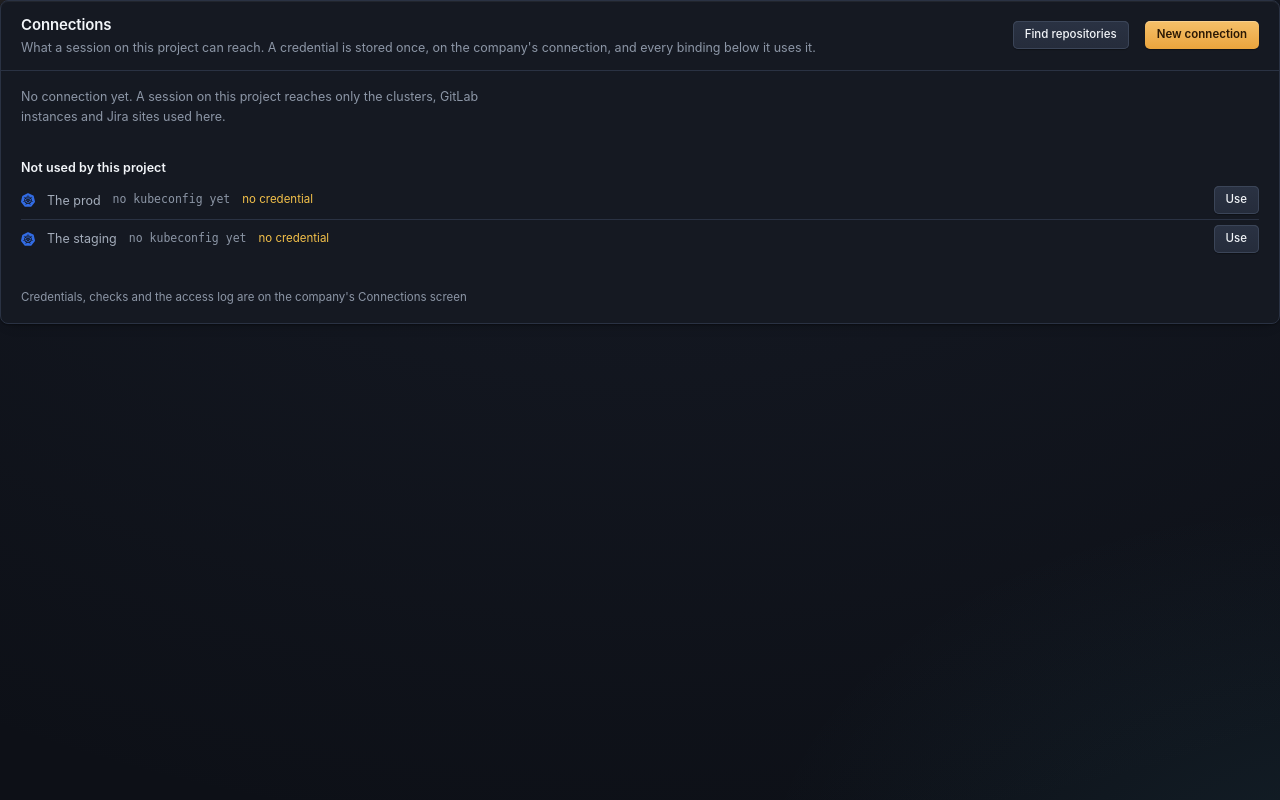
Test: ProjectConnectionsPage › finds the repositories under the folder and shows what each became
The width and height of the screenshot is (1280, 800).
Click the button with test id "discover-repositories": (1071, 35) x1=1013 y1=21 x2=1129 y2=49
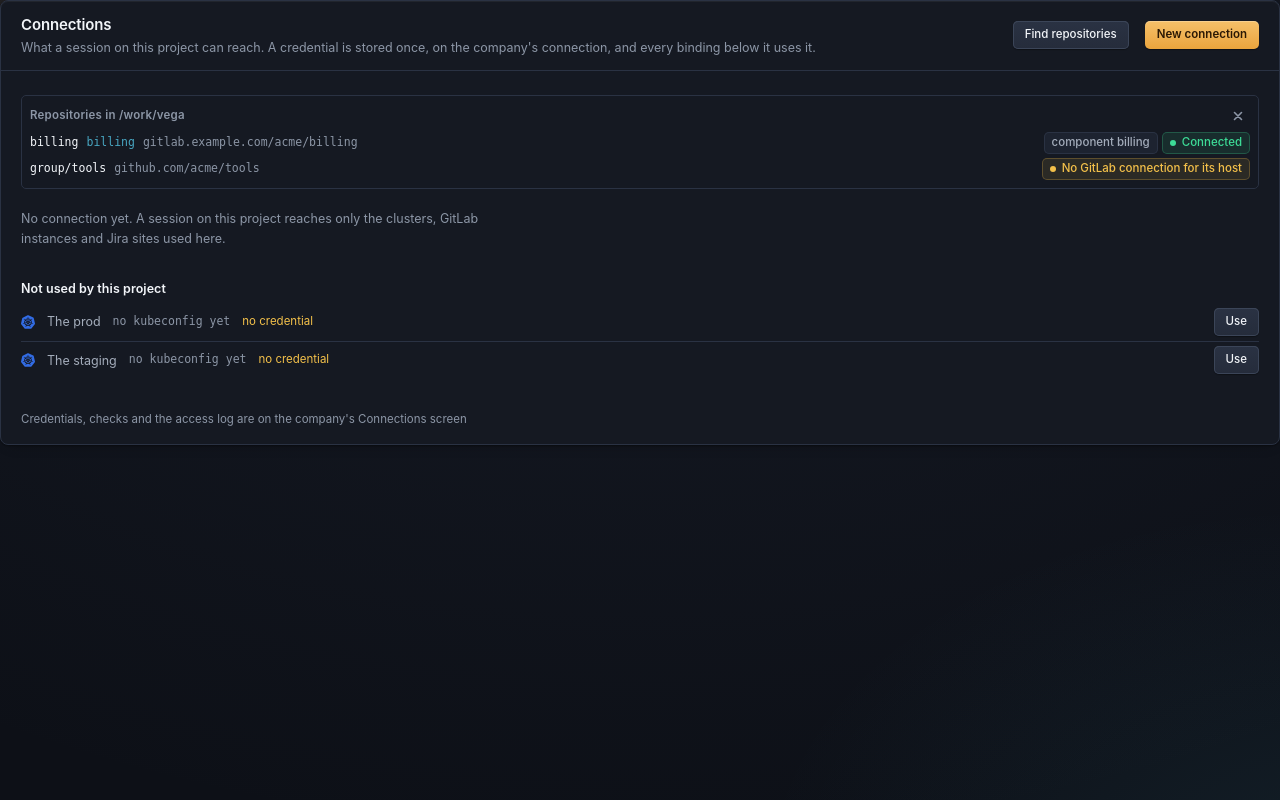
Result: the list item with test id "discovered-repository" shows "billing" at x1=30 y1=135 x2=78 y2=149
Result: the list item with test id "discovered-repository" shows "Connected" at x1=1182 y1=135 x2=1242 y2=149
Result: the list item with test id "discovered-repository" shows "group/tools" at x1=30 y1=160 x2=106 y2=174
